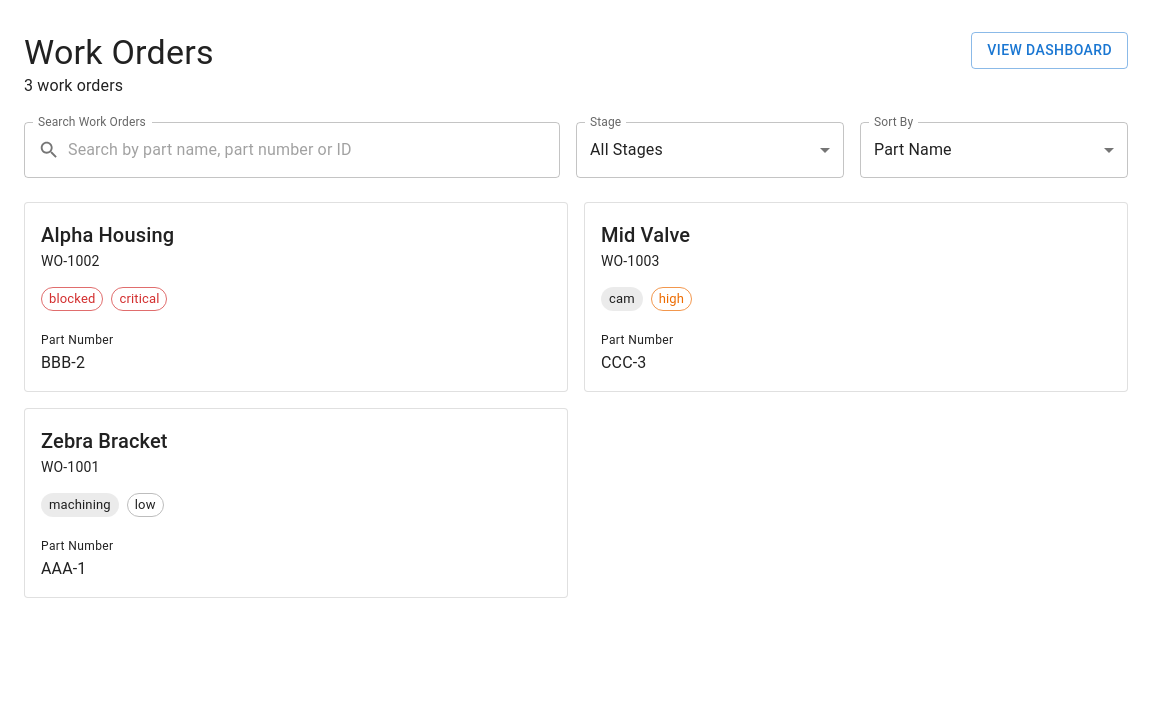
Test case: WorkOrders › filters by stage
Click the dropdown labelled "All Stages".
click(626, 150)  # box [590,140,663,160]
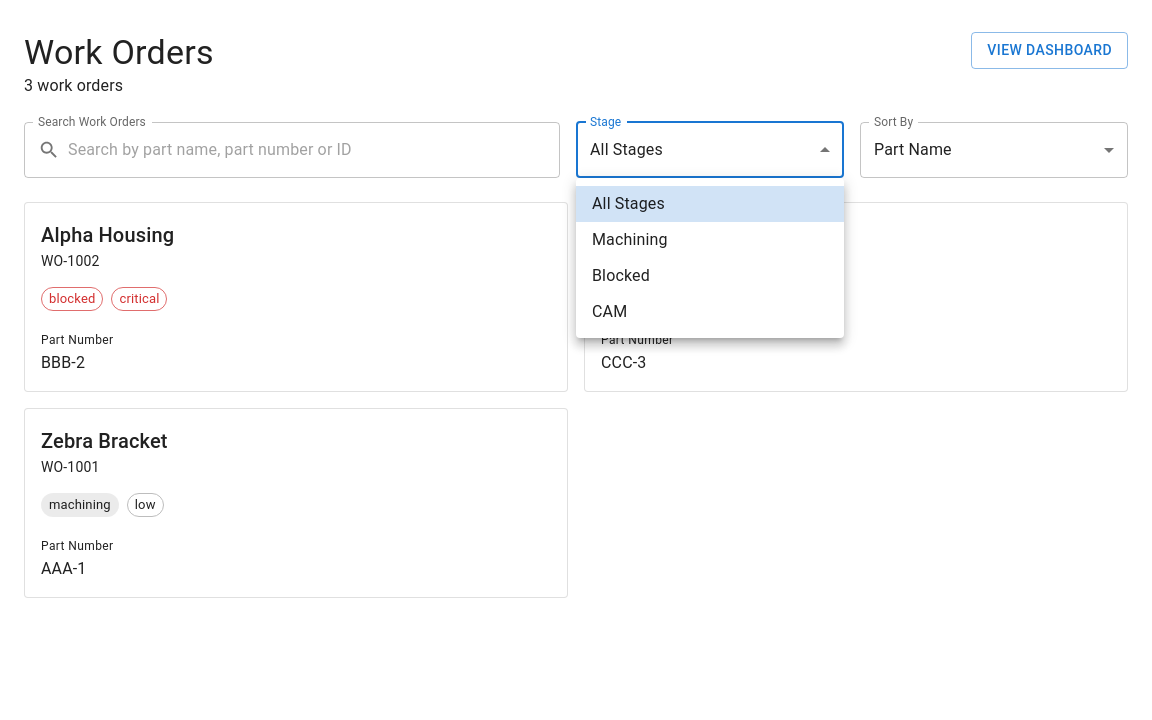
Click the option "Blocked".
click(621, 276)  # box [592,266,650,285]
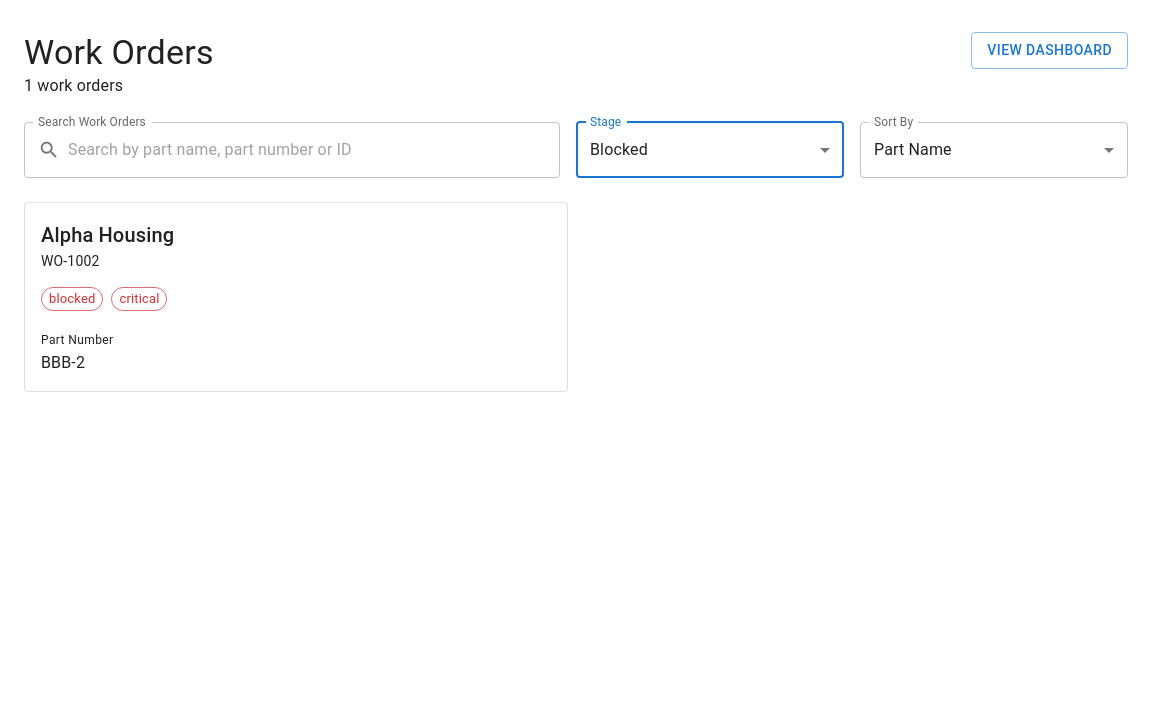
Expected: the heading "Alpha Housing" is shown, [41,223,174,247]
Result: the link "Zebra Bracket" is gone
Result: the link "Mid Valve" is gone
